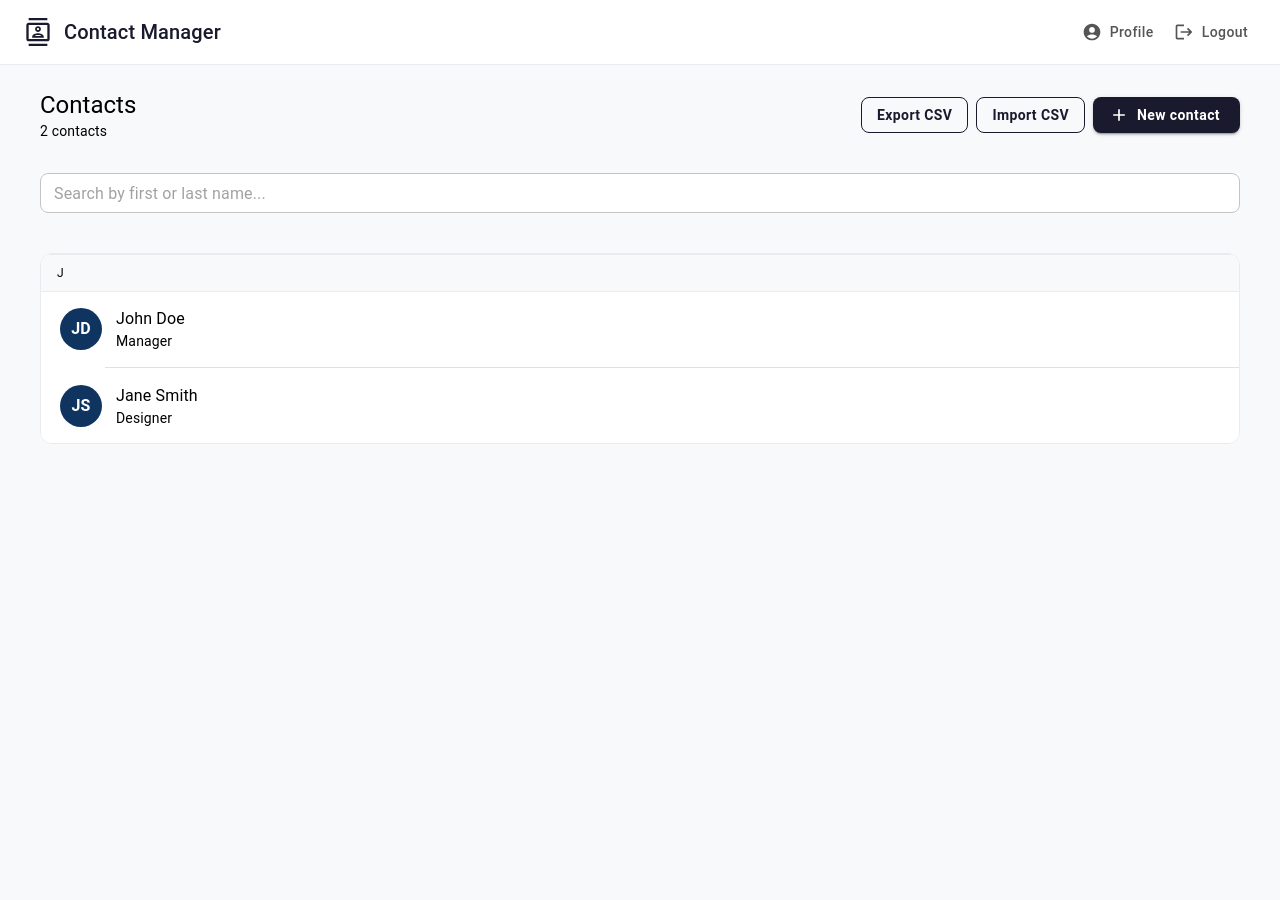
Test: Contacts Page › closes detail panel on close button click
Click the text "John Doe": x=150, y=319 [116, 309, 185, 328]
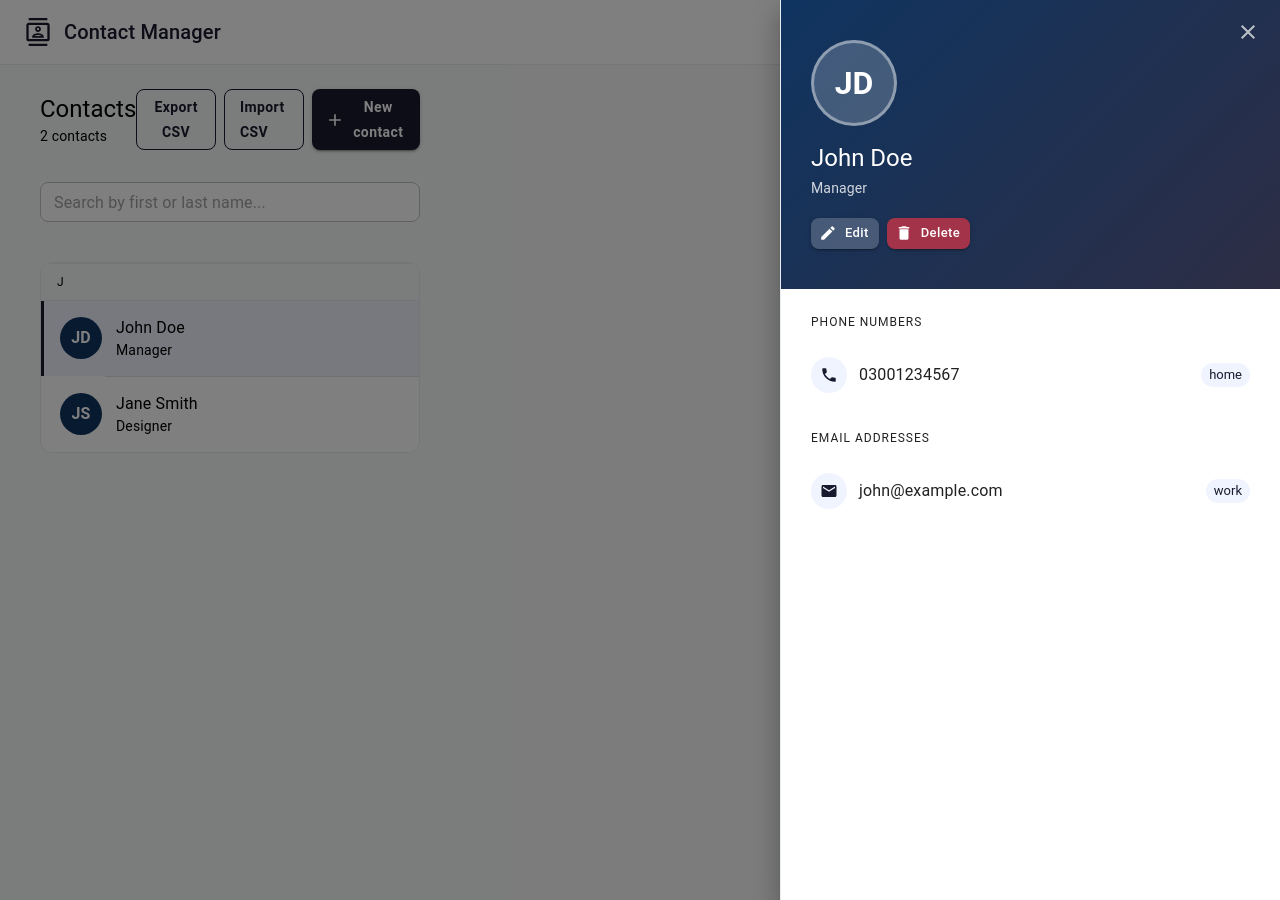
Expected: the text "john@example.com" is shown, [859, 479, 1003, 503]
Click the button named "close": x=1248, y=32 [1228, 12, 1268, 52]
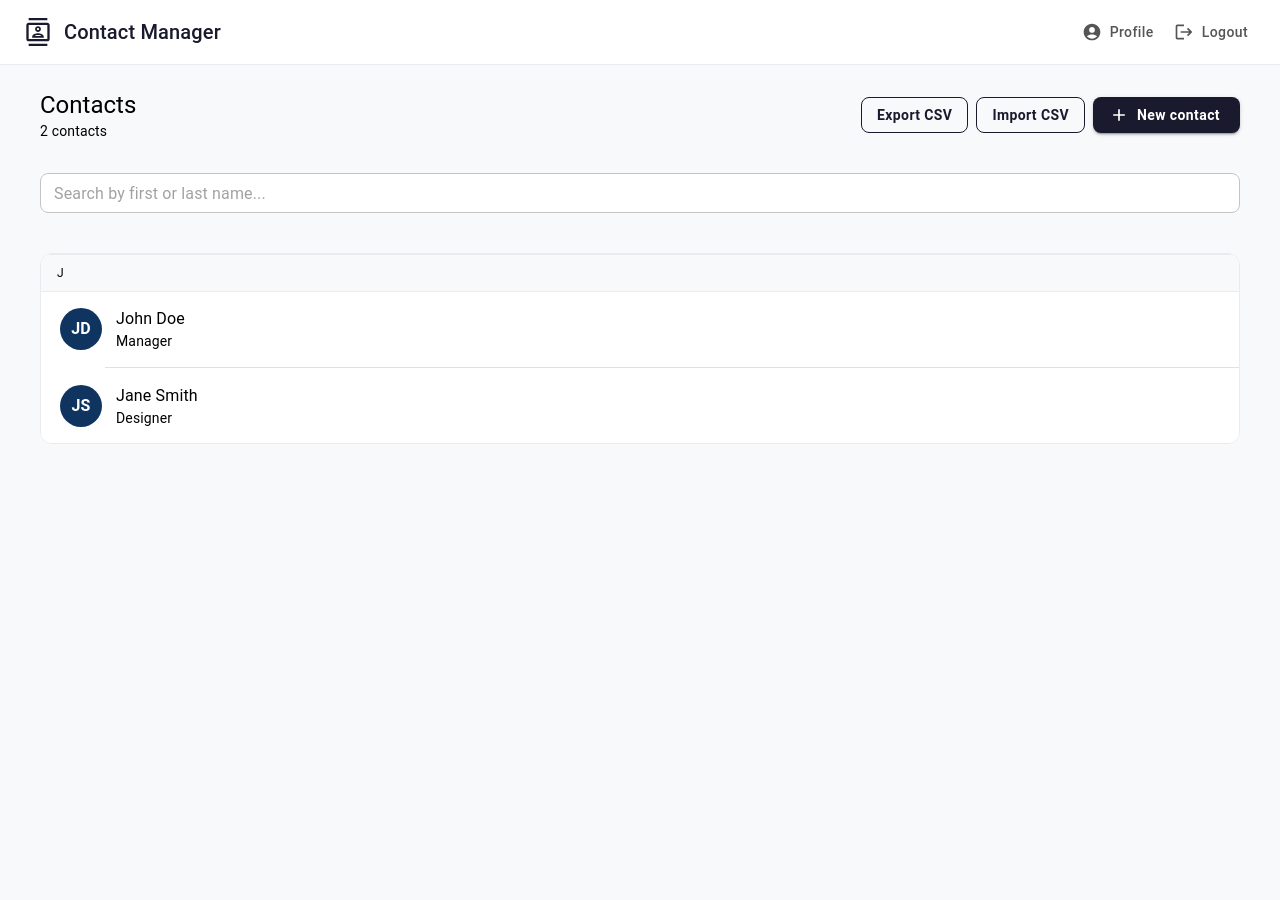
Expected: the text "john@example.com" is gone
